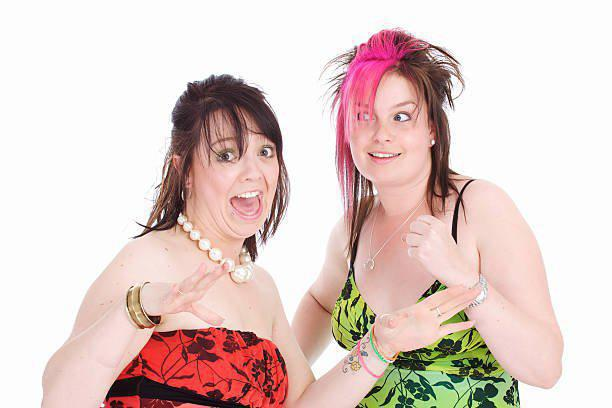Drunk: (203, 107, 277, 237), (341, 78, 426, 185)
